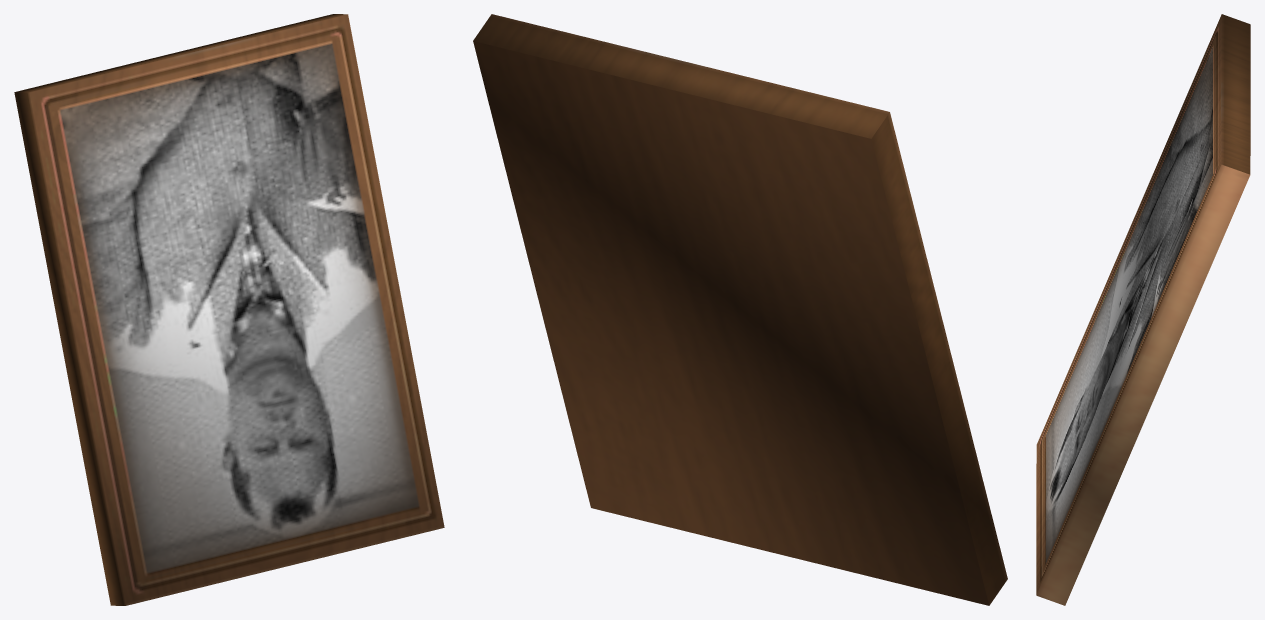
File: ShaShouJia_01_zhaopian_01.FBX
3 renders of one model, left to right at view 1: azimuth 30°, elevation 25°; view 2: azimuth 150°, elevation 25°; view 3: azimuth 270°, elevation 25°, orthographic. The views are drawn at different scales.
Visible parts, largest first — view 1: ShaShouJia_01_zhaopian_01; view 2: ShaShouJia_01_zhaopian_01; view 3: ShaShouJia_01_zhaopian_01.
Boxes of the visible parts, bbox=[...] form: ShaShouJia_01_zhaopian_01: bbox=[14, 14, 444, 605]; ShaShouJia_01_zhaopian_01: bbox=[473, 14, 1007, 605]; ShaShouJia_01_zhaopian_01: bbox=[1036, 14, 1250, 605].
Size of the model in its own units: 194 by 264 by 116.
